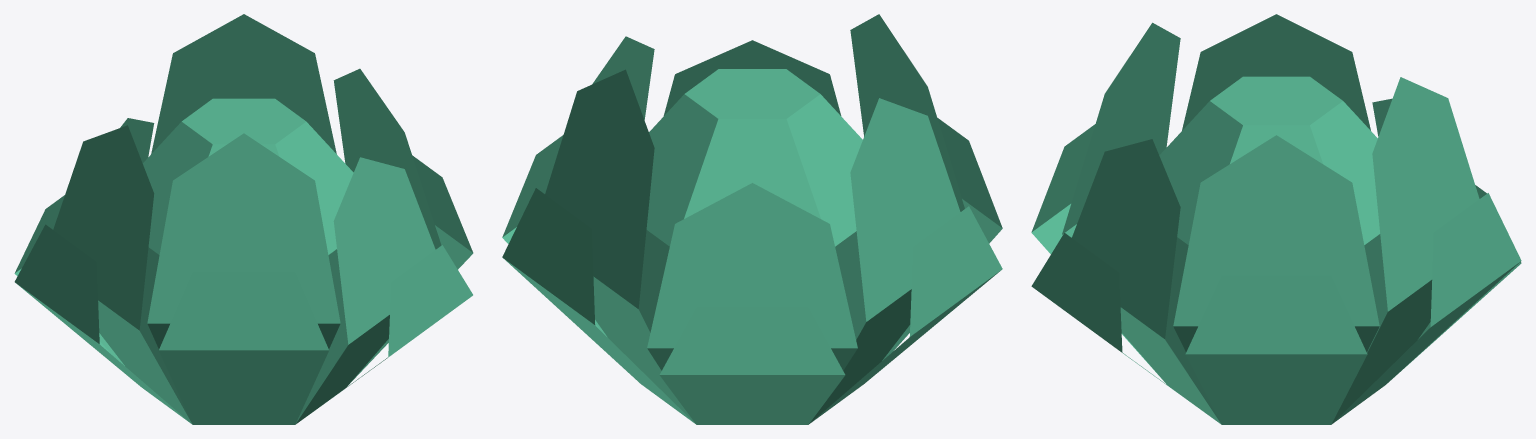
The model's file is cabbage.dae.
3 renders of one model, left to right at view 1: azimuth 30°, elevation 25°; view 2: azimuth 150°, elevation 25°; view 3: azimuth 270°, elevation 25°, orthographic. The views are drawn at different scales.
Parts seen in each view (by area): view 1: cabbage; view 2: cabbage; view 3: cabbage.
Part boxes in pixels (box(x1,y1,x2,y2)): cabbage: box(14, 14, 473, 424); cabbage: box(502, 14, 1002, 424); cabbage: box(1031, 14, 1521, 424).
Size of the model in its own units: 0.3794 by 0.3074 by 0.4036.
